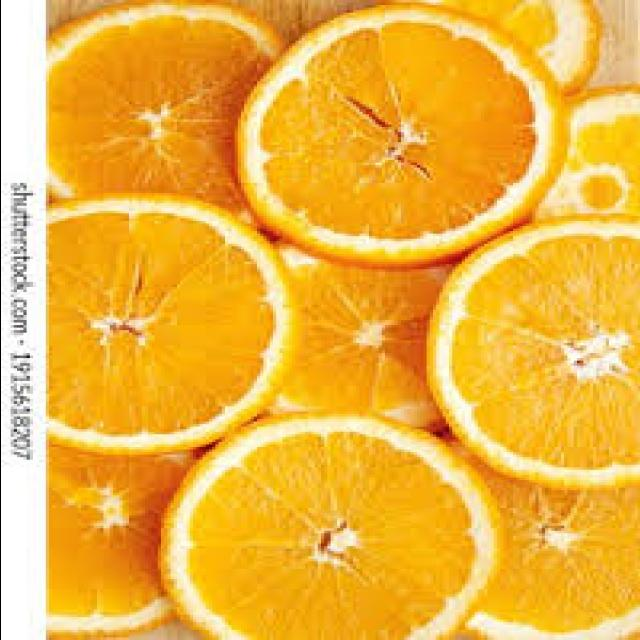orange: (240, 7, 559, 284)
